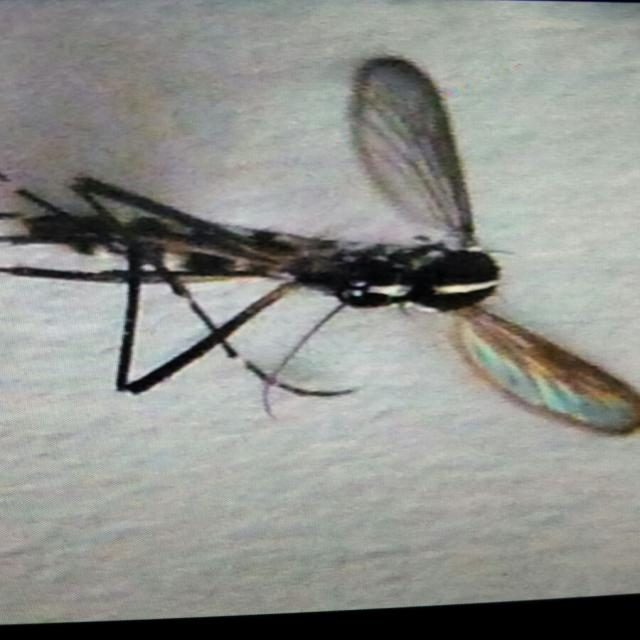albopictus: (21, 136, 582, 428)
